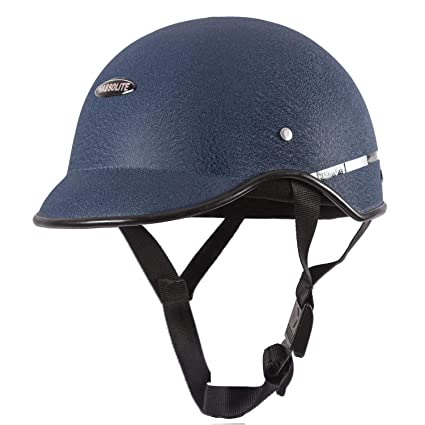Helmet: (32, 11, 392, 235)
